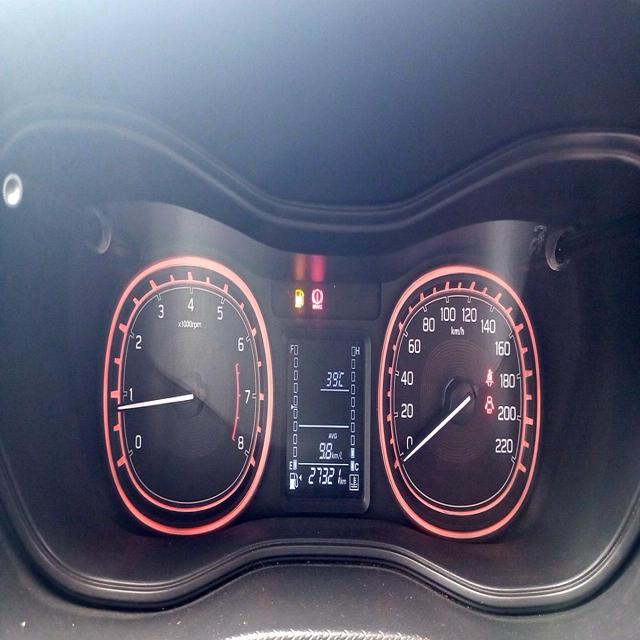odometer: (307, 464, 341, 487)
